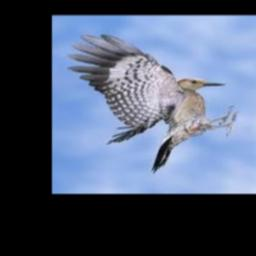Woodpecker: (67, 35, 239, 173)
